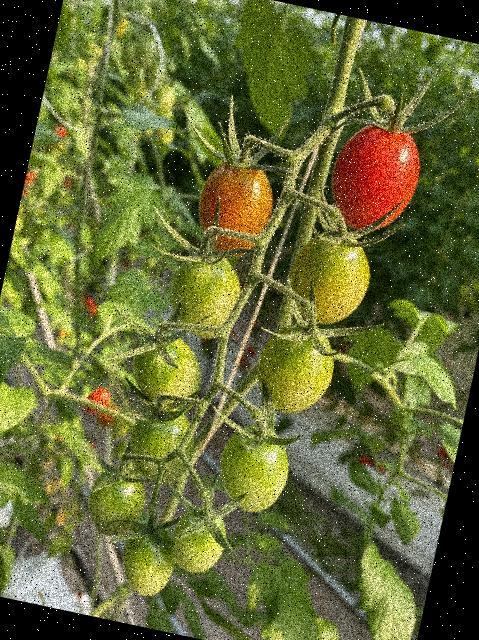l_fully_ripened: (322, 112, 429, 240)
l_green: (282, 220, 380, 333), (249, 314, 343, 420), (163, 243, 252, 345), (212, 418, 297, 518), (123, 325, 210, 412), (122, 398, 202, 489), (81, 457, 153, 543), (114, 517, 183, 601), (166, 500, 232, 579)
l_half_ripened: (189, 151, 281, 263)
